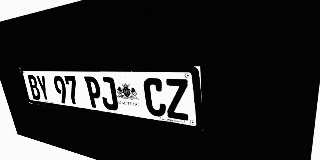7: (63, 76, 81, 106)
9: (52, 75, 69, 104)
B: (27, 75, 42, 100)
C: (143, 78, 167, 118)
J: (98, 77, 119, 111)
P: (84, 76, 104, 109)
Y: (35, 75, 51, 102)
Z: (164, 78, 190, 121)
